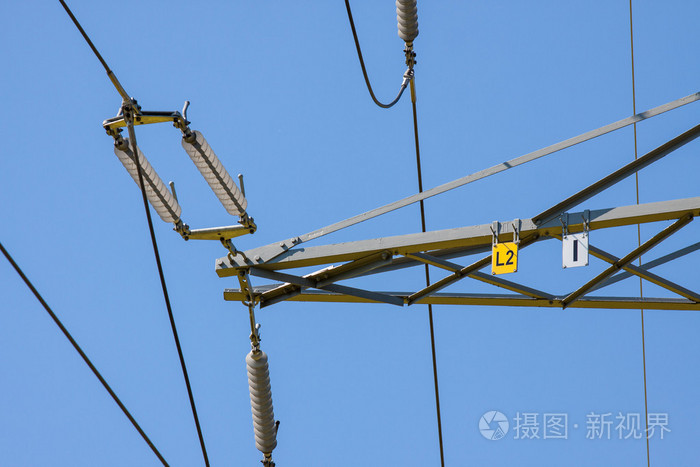insulator: (115, 139, 183, 222), (181, 132, 247, 215), (246, 350, 279, 455), (395, 1, 421, 43)
